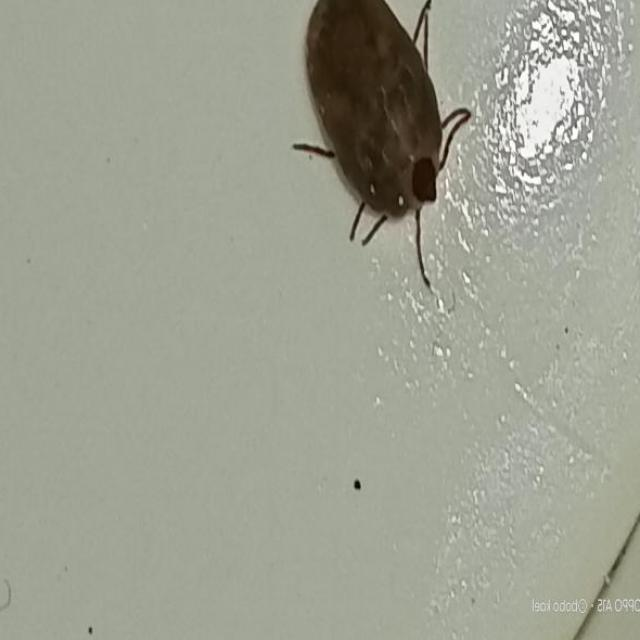Rhipicephalus Sanguineus-F-Fed: (293, 0, 472, 287)
